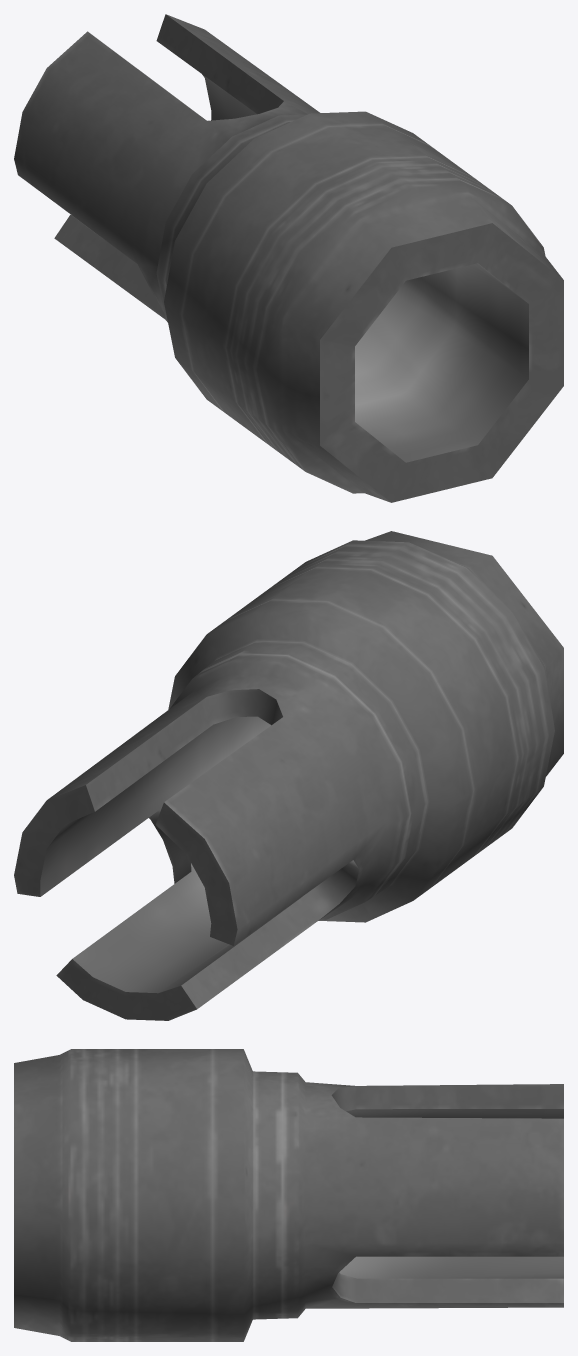
The model's file is IG_Acc_Muzzle_AR_SCA_2.fbx.
3 views of the same model, one above another, from view 1: azimuth 30°, elevation 25°; view 2: azimuth 150°, elevation 25°; view 3: azimuth 270°, elevation 25° (orthographic). The views are drawn at different scales.
Visible parts, largest first — view 1: Muzzle_AR_SCA_2; view 2: Muzzle_AR_SCA_2; view 3: Muzzle_AR_SCA_2.
Boxes of the visible parts, <box> form: Muzzle_AR_SCA_2: <box>14,14,563,502</box>; Muzzle_AR_SCA_2: <box>14,531,563,1020</box>; Muzzle_AR_SCA_2: <box>14,1049,563,1341</box>.
Bounding box in the file's own units: 0.0721 × 0.0721 × 0.1352.
